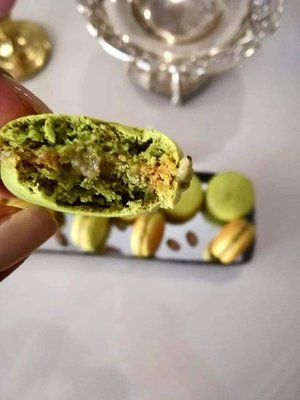curry: (0, 2, 300, 377)
